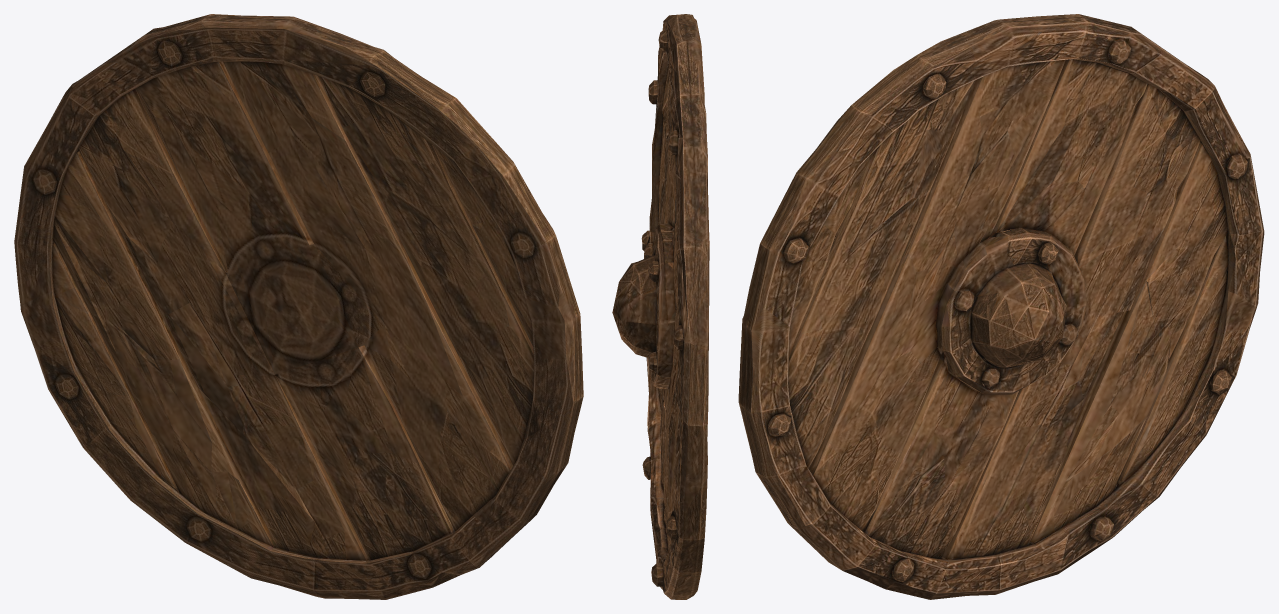
File: wooden-shield.glb
3 renders of one model, left to right at view 1: azimuth 30°, elevation 25°; view 2: azimuth 150°, elevation 25°; view 3: azimuth 270°, elevation 25°, orthographic. The views are drawn at different scales.
Parts seen in each view (by area): view 1: Module_native_wooden_shield; view 2: Module_native_wooden_shield; view 3: Module_native_wooden_shield.
Boxes of the visible parts, x1,y1,x2,y2 form: Module_native_wooden_shield: (14, 14, 583, 599); Module_native_wooden_shield: (612, 14, 709, 599); Module_native_wooden_shield: (738, 14, 1264, 599).
Bounding box in the file's own units: 0.4015 × 0.7042 × 0.6002.
Materials: 1 (1 with a texture image).
